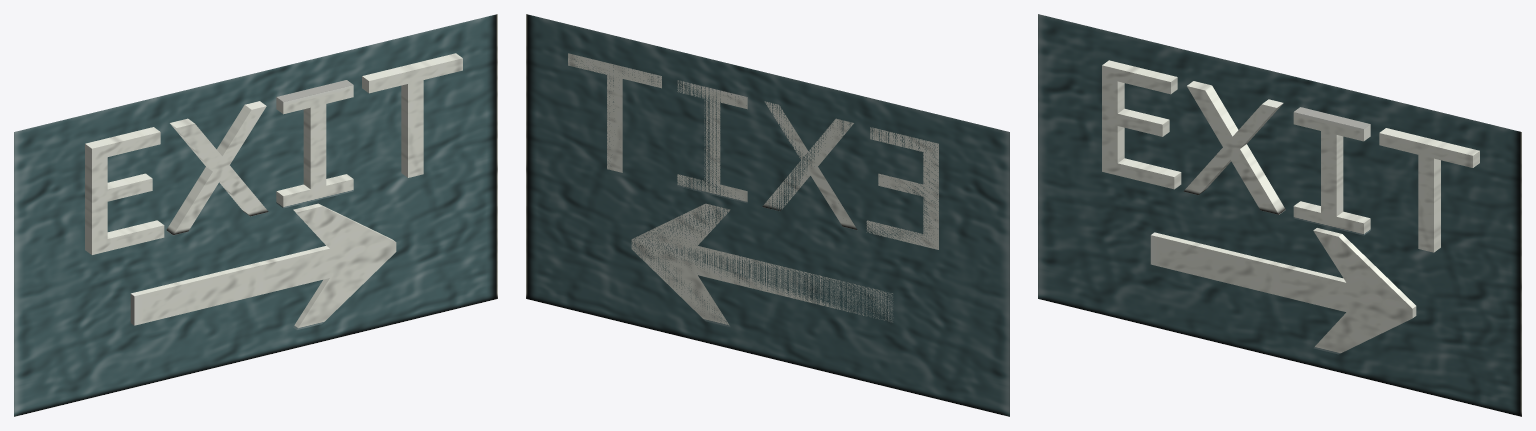
The model's file is exit_mdl.fbx.
The picture shows the model from 3 angles, left to right: view 1: azimuth 30°, elevation 25°; view 2: azimuth 150°, elevation 25°; view 3: azimuth 330°, elevation 25°; orthographic projection.
Visible parts, largest first — view 1: typeMesh3; view 2: typeMesh3; view 3: typeMesh3.
Part boxes in pixels (bbox=[...]): typeMesh3: bbox=[14, 14, 497, 416]; typeMesh3: bbox=[526, 14, 1009, 416]; typeMesh3: bbox=[1038, 14, 1521, 416].
Size of the model in its own units: 183 by 103 by 4.54.
1 material, 1 textured.
